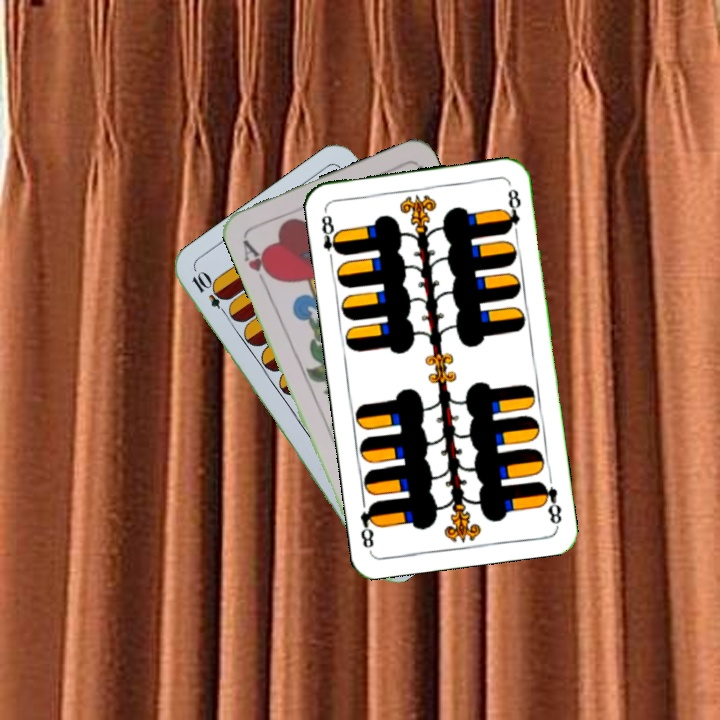E10: (187, 268, 233, 320)
E8: (317, 211, 345, 266), (535, 477, 564, 528)
HA: (239, 235, 277, 290)
